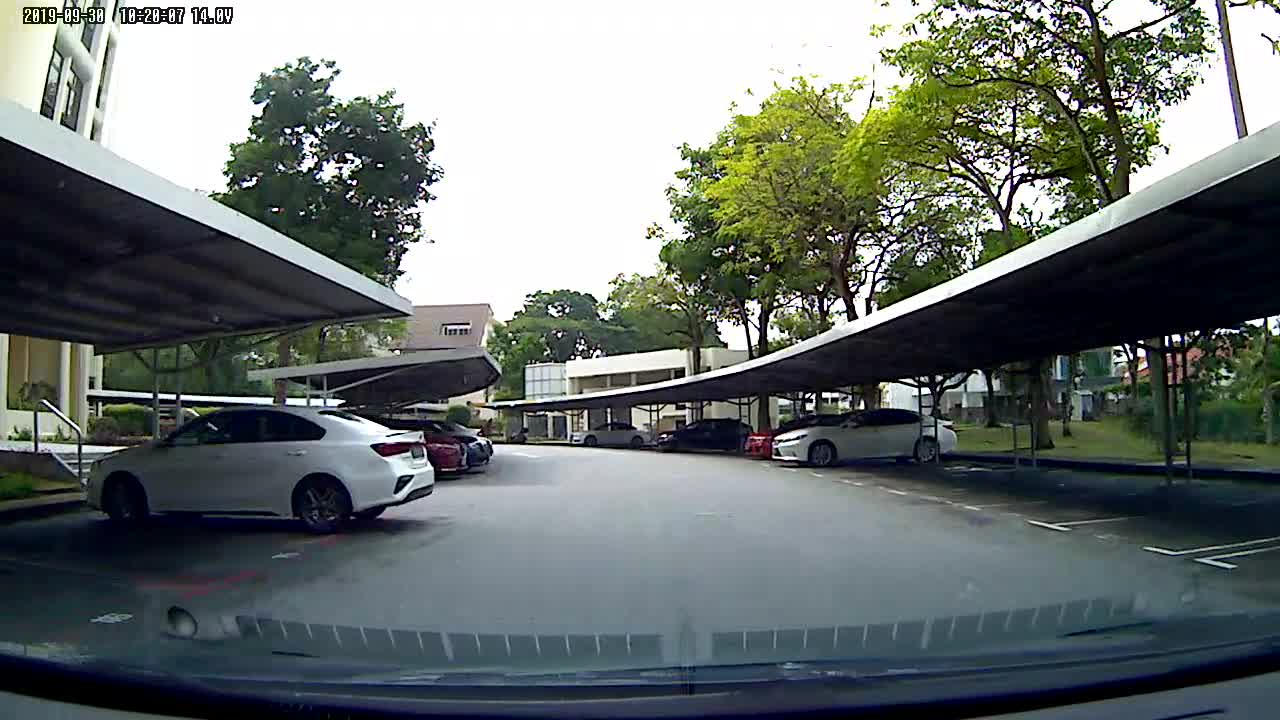car: (85, 404, 438, 531), (770, 408, 963, 473), (429, 405, 499, 482), (655, 417, 755, 460), (566, 422, 656, 451)
